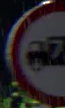Heavy Vehicles: (8, 1, 64, 106)
